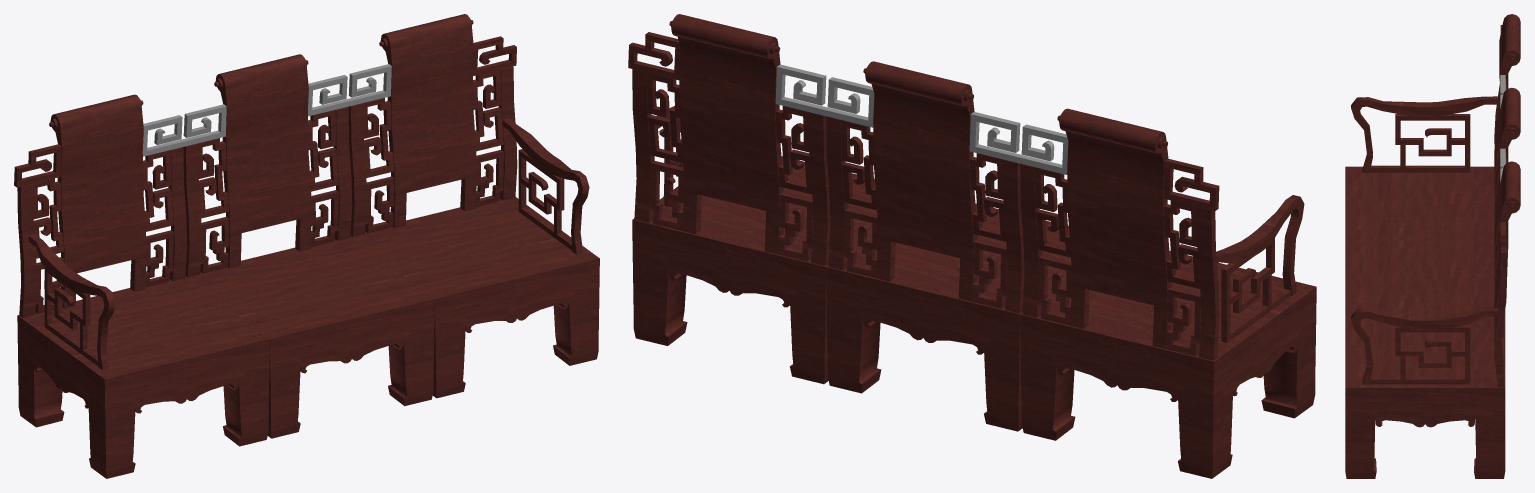
The model's file is rosewood_chair_three.FBX.
3 views of the same model, side by side, from view 1: azimuth 30°, elevation 25°; view 2: azimuth 150°, elevation 25°; view 3: azimuth 270°, elevation 25° (orthographic). The views are drawn at different scales.
Parts seen in each view (by area): view 1: Box001, Line001; view 2: Box001, Line001; view 3: Box001, Line001.
Boxes of the visible parts, x1,y1,x2,y2 form: Box001: (14,14,599,478); Line001: (142,64,391,156); Box001: (628,14,1316,478); Line001: (775,64,1068,174); Box001: (1345,14,1520,478); Line001: (1500,75,1506,182).
Bounding box in the file's own units: 1.82 × 0.603 × 1.
2 materials, 1 textured.
